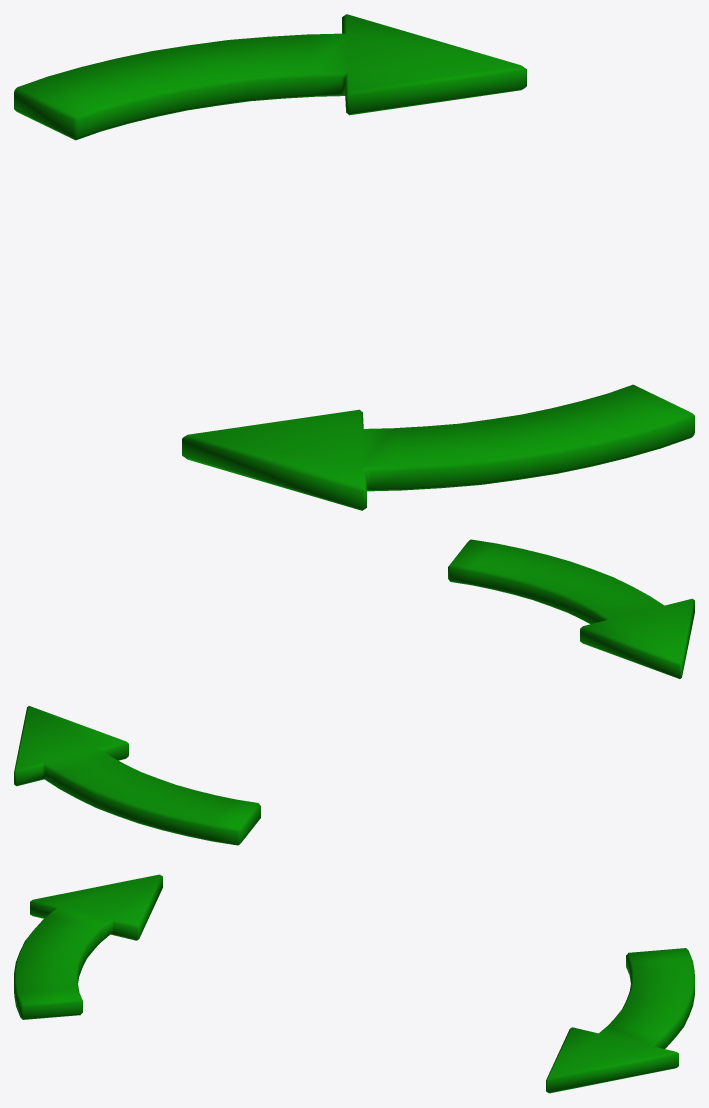
The model's file is flecha circulo.fbx.
3 renders of one model, top to bottom at view 1: azimuth 30°, elevation 25°; view 2: azimuth 150°, elevation 25°; view 3: azimuth 270°, elevation 25°, orthographic. The views are drawn at different scales.
Visible parts, largest first — view 1: Plane; view 2: Plane; view 3: Plane.
Boxes of the visible parts, left/top/right/bottom form: Plane: left=14, top=14, right=694, bottom=510; Plane: left=14, top=539, right=694, bottom=845; Plane: left=14, top=874, right=694, bottom=1093.
Size of the model in its own units: 39.91 by 1.49 by 55.96.
